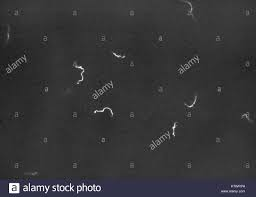sphyillis: (88, 105, 115, 118), (23, 161, 40, 180), (75, 61, 88, 85), (112, 43, 125, 67), (170, 113, 183, 137), (186, 87, 199, 111), (183, 1, 200, 19), (1, 22, 16, 42), (241, 109, 254, 127)
